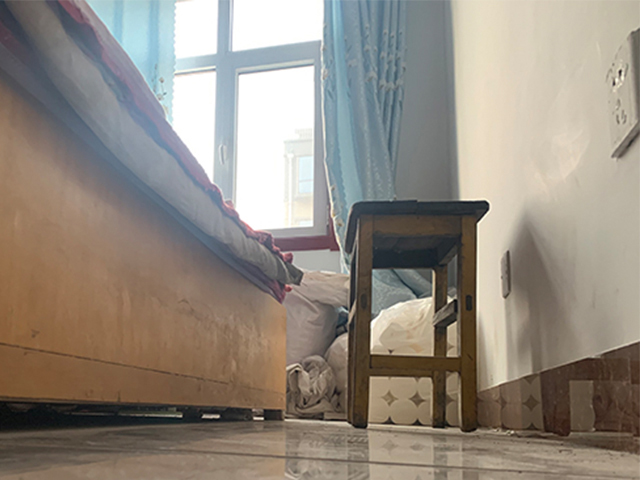bed: (1, 1, 303, 422)
curtain: (321, 1, 427, 304)
stool: (344, 200, 490, 433)
